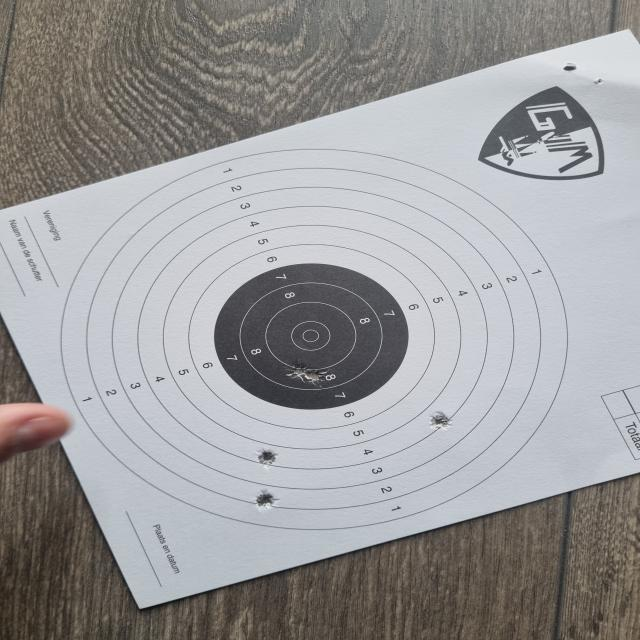10: (286, 364, 306, 379)
3: (256, 493, 280, 509)
5: (428, 412, 453, 429), (258, 448, 278, 466)
9: (306, 368, 327, 388)
Black Contour: (217, 262, 410, 410)
Target: (56, 145, 576, 534)
